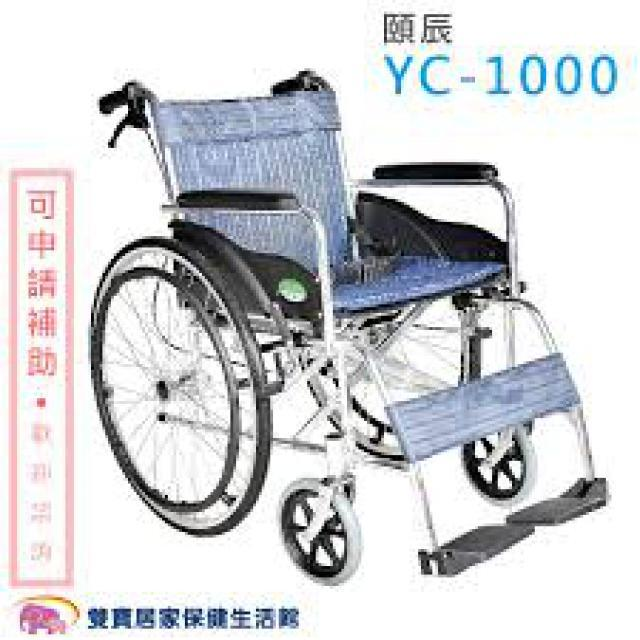wheelchair: (59, 65, 632, 586)
